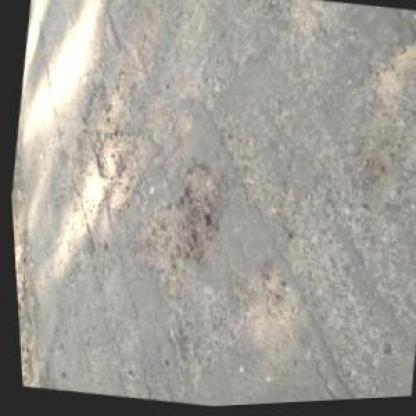pothole: (161, 158, 234, 273), (83, 124, 150, 216), (248, 258, 290, 320)
